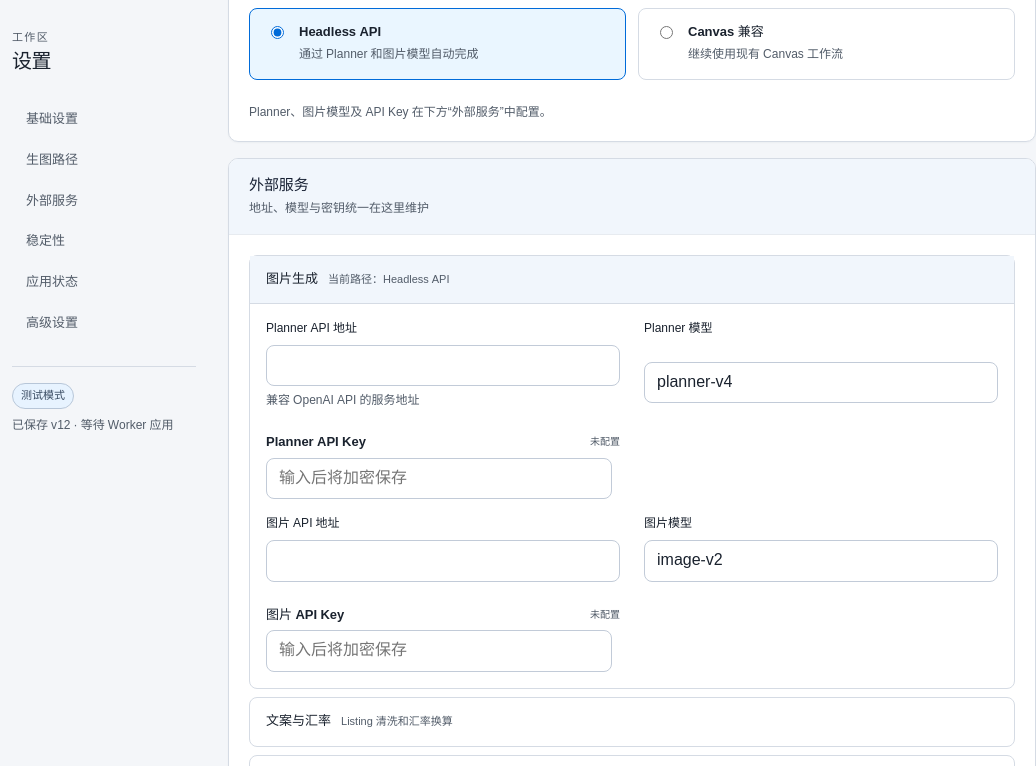
Test case: SettingsWorkspace › validates required headless models and focuses the first invalid field
(page scrolled)
Clear the field labelled "Planner 模型" at point(821, 383), box [644, 362, 998, 403]
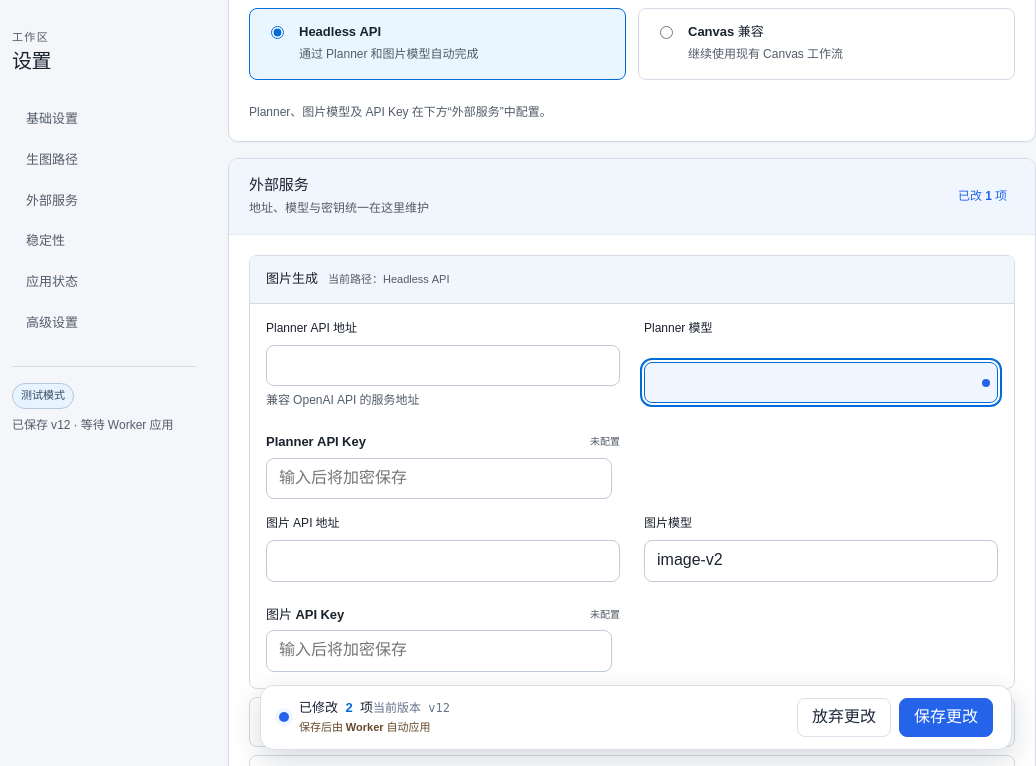
Click the button "保存更改" at point(946, 717), box [899, 698, 993, 737]
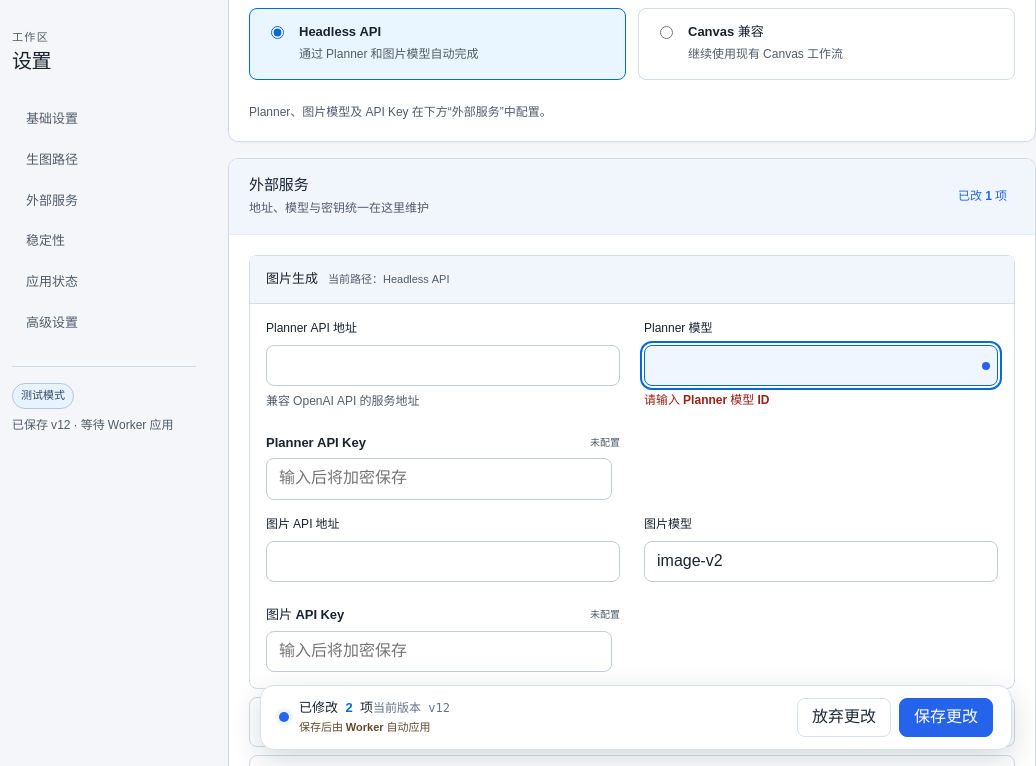
Check: the text "请输入 Planner 模型 ID" is shown, box [644, 391, 769, 409]
